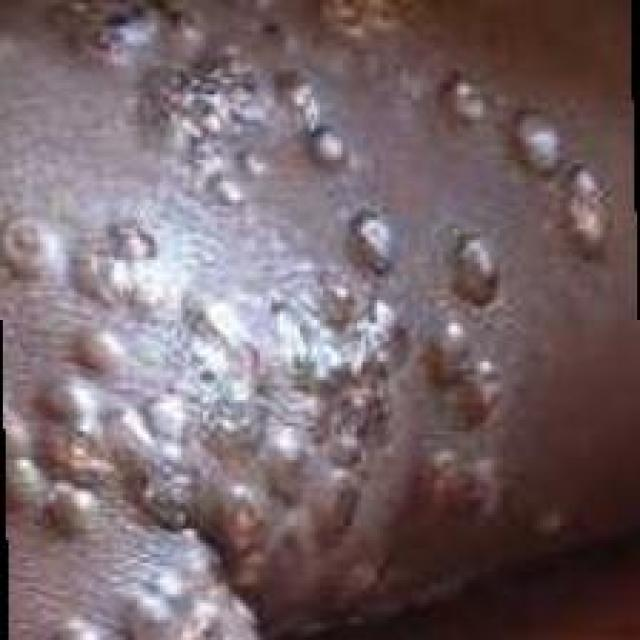monkeypox: (1, 0, 604, 636)
